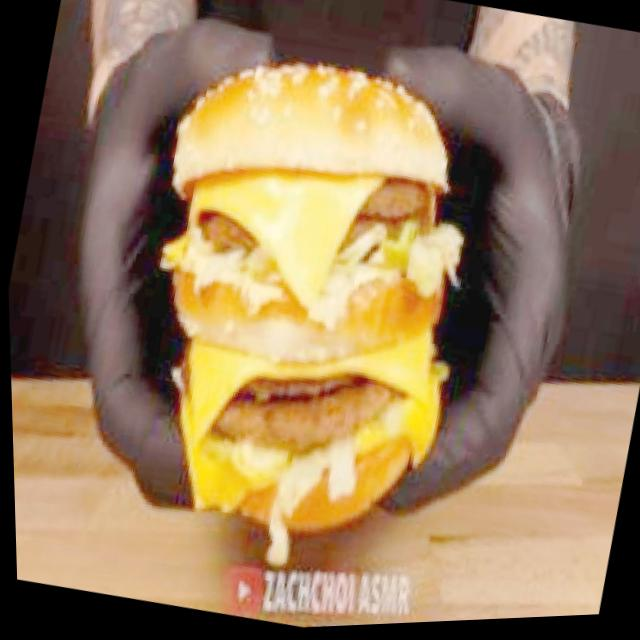burger: (93, 19, 515, 579)
